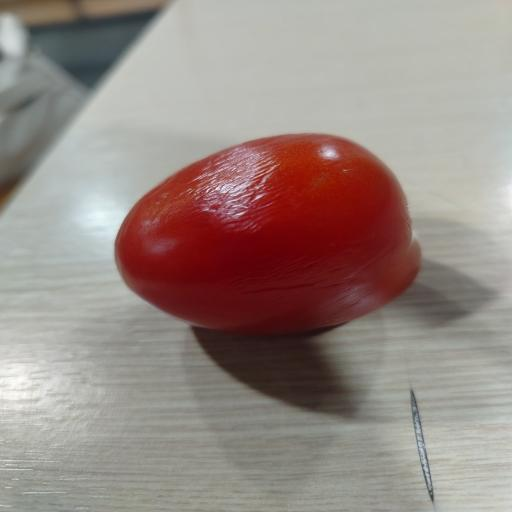spoiled: (290, 191, 292, 195)
